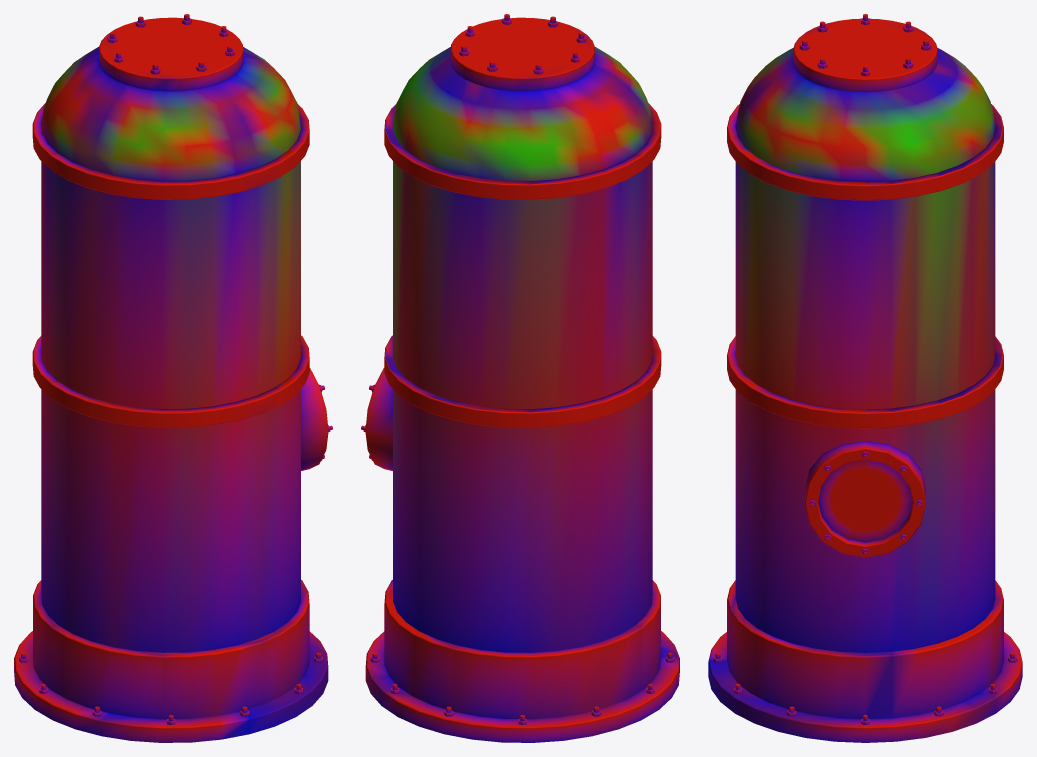
Rendered from LargeMetalPropD.fbx.
The picture shows the model from 3 angles, left to right: view 1: azimuth 30°, elevation 25°; view 2: azimuth 150°, elevation 25°; view 3: azimuth 270°, elevation 25°; orthographic projection.
Parts seen in each view (by area): view 1: T1.002, Circle.000; view 2: T1.002, Circle.000; view 3: T1.002, Circle.000.
Part boxes in pixels (x1,y1,x2,y2): T1.002: (14, 17, 328, 742); Circle.000: (19, 14, 332, 724); T1.002: (365, 17, 679, 742); Circle.000: (361, 14, 674, 724); T1.002: (708, 18, 1022, 742); Circle.000: (713, 14, 1017, 724).
Size of what is drawn, in the model's own units: 363 by 810 by 363.
